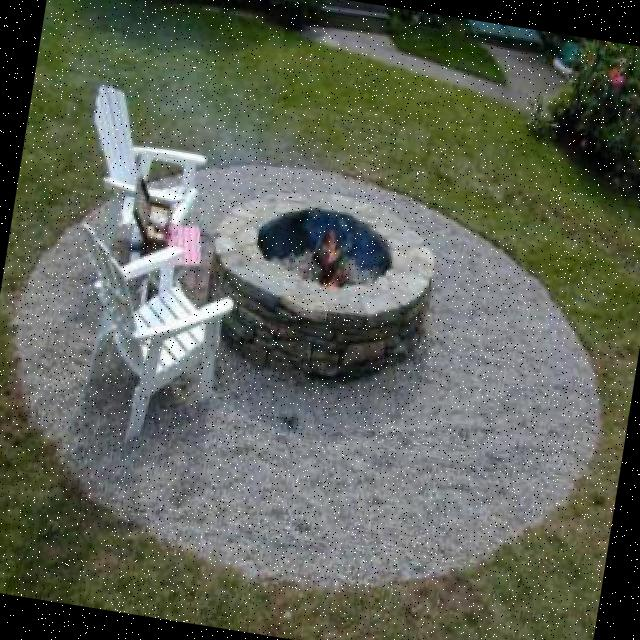fire: (310, 211, 354, 301)
